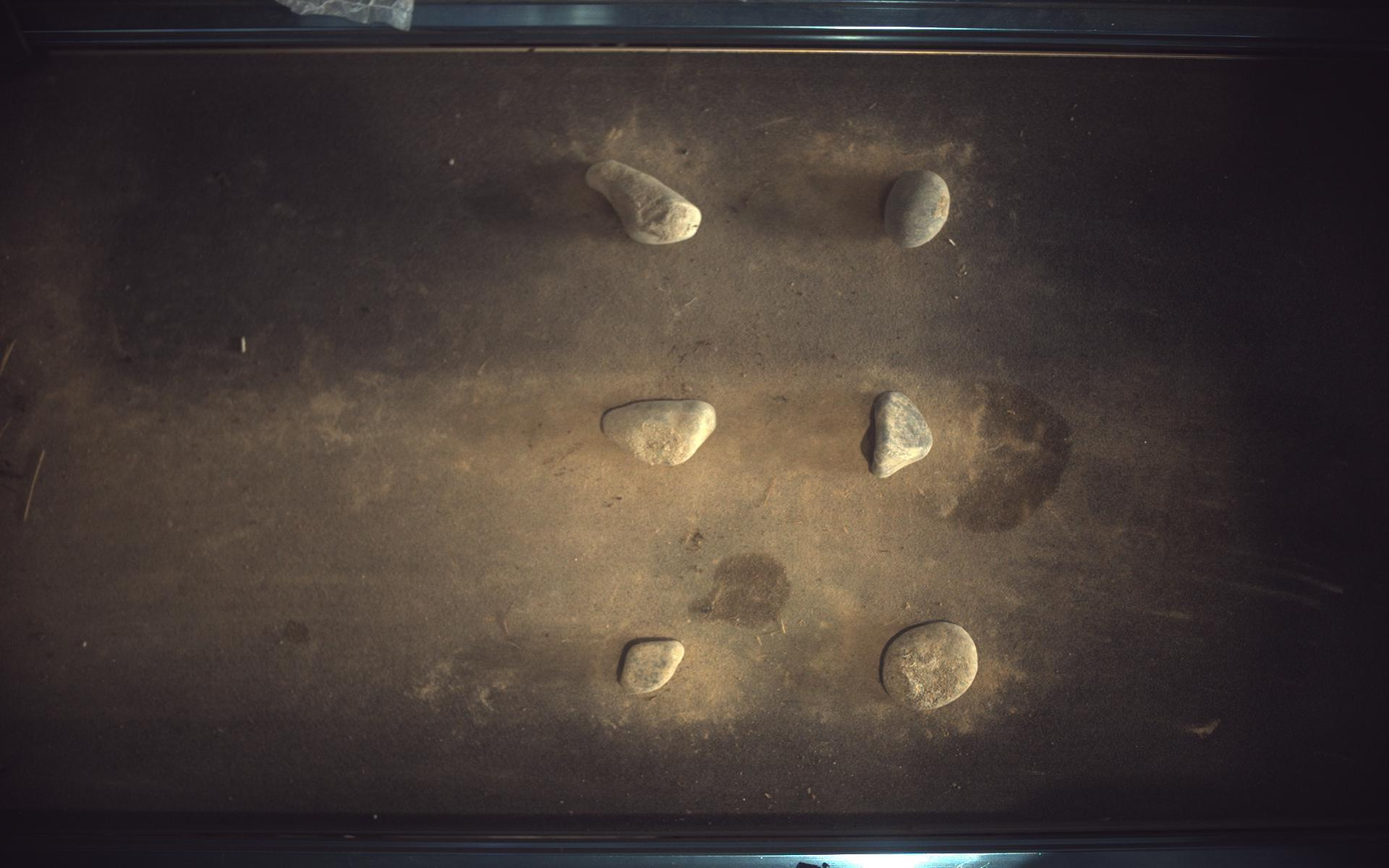stone: (587, 158, 702, 244), (883, 622, 980, 711), (603, 399, 718, 466), (872, 391, 935, 479), (886, 169, 952, 247), (619, 638, 686, 697)
